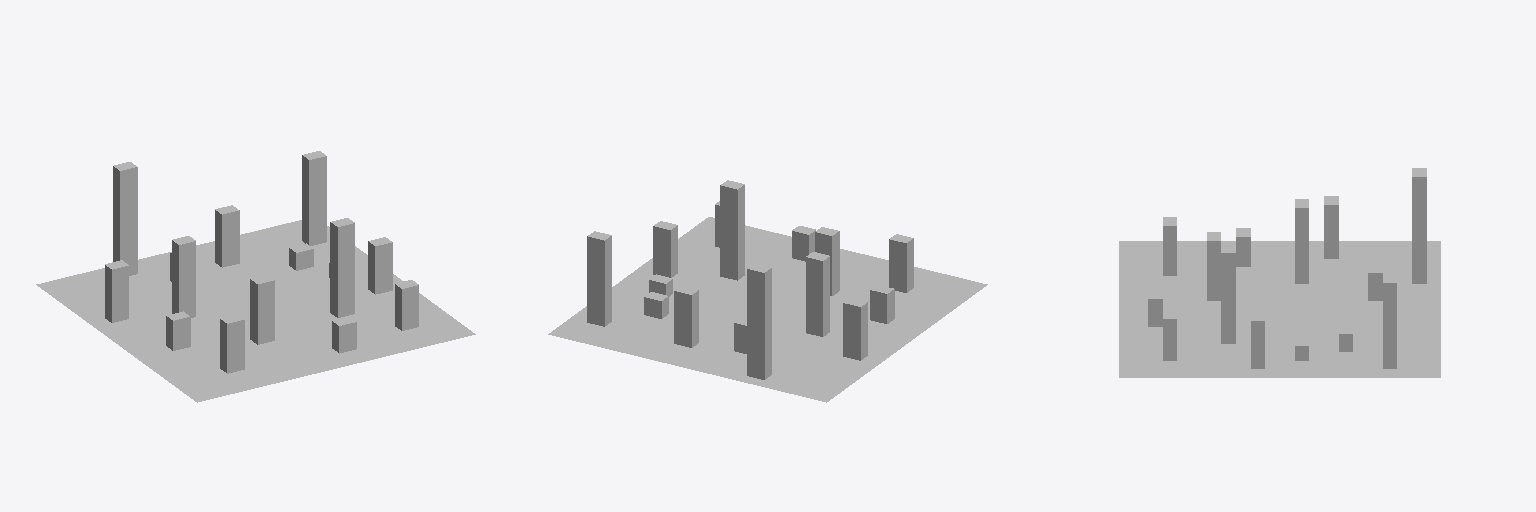
The model's file is world.obj.
3 renders of one model, left to right at view 1: azimuth 30°, elevation 25°; view 2: azimuth 150°, elevation 25°; view 3: azimuth 270°, elevation 25°, orthographic.
Parts seen in each view (by area): view 1: Plane; view 2: Plane; view 3: Plane.
Boxes of the visible parts, box(x1,y1,x2,y2) form: Plane: box(36, 151, 475, 402); Plane: box(548, 180, 987, 402); Plane: box(1119, 168, 1440, 377).
Size of the model in its own units: 27.85 by 10.22 by 27.85.